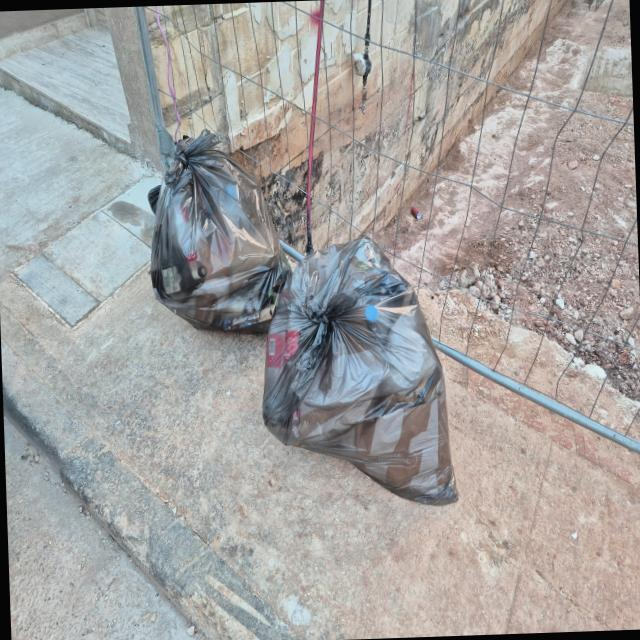black_bag: (255, 226, 470, 522), (148, 120, 288, 360)
